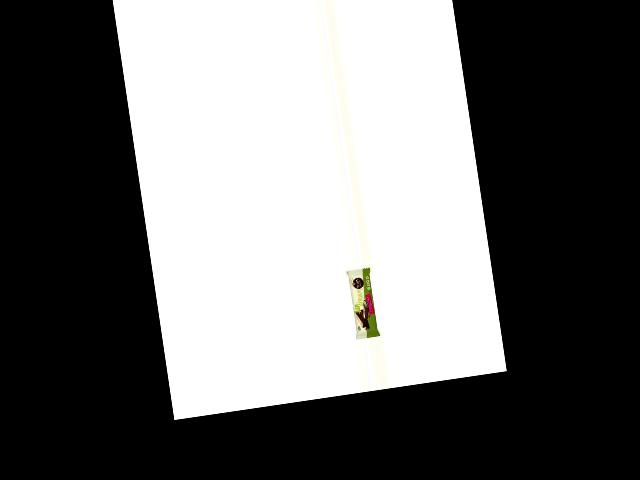chocolate: (344, 267, 383, 341)
